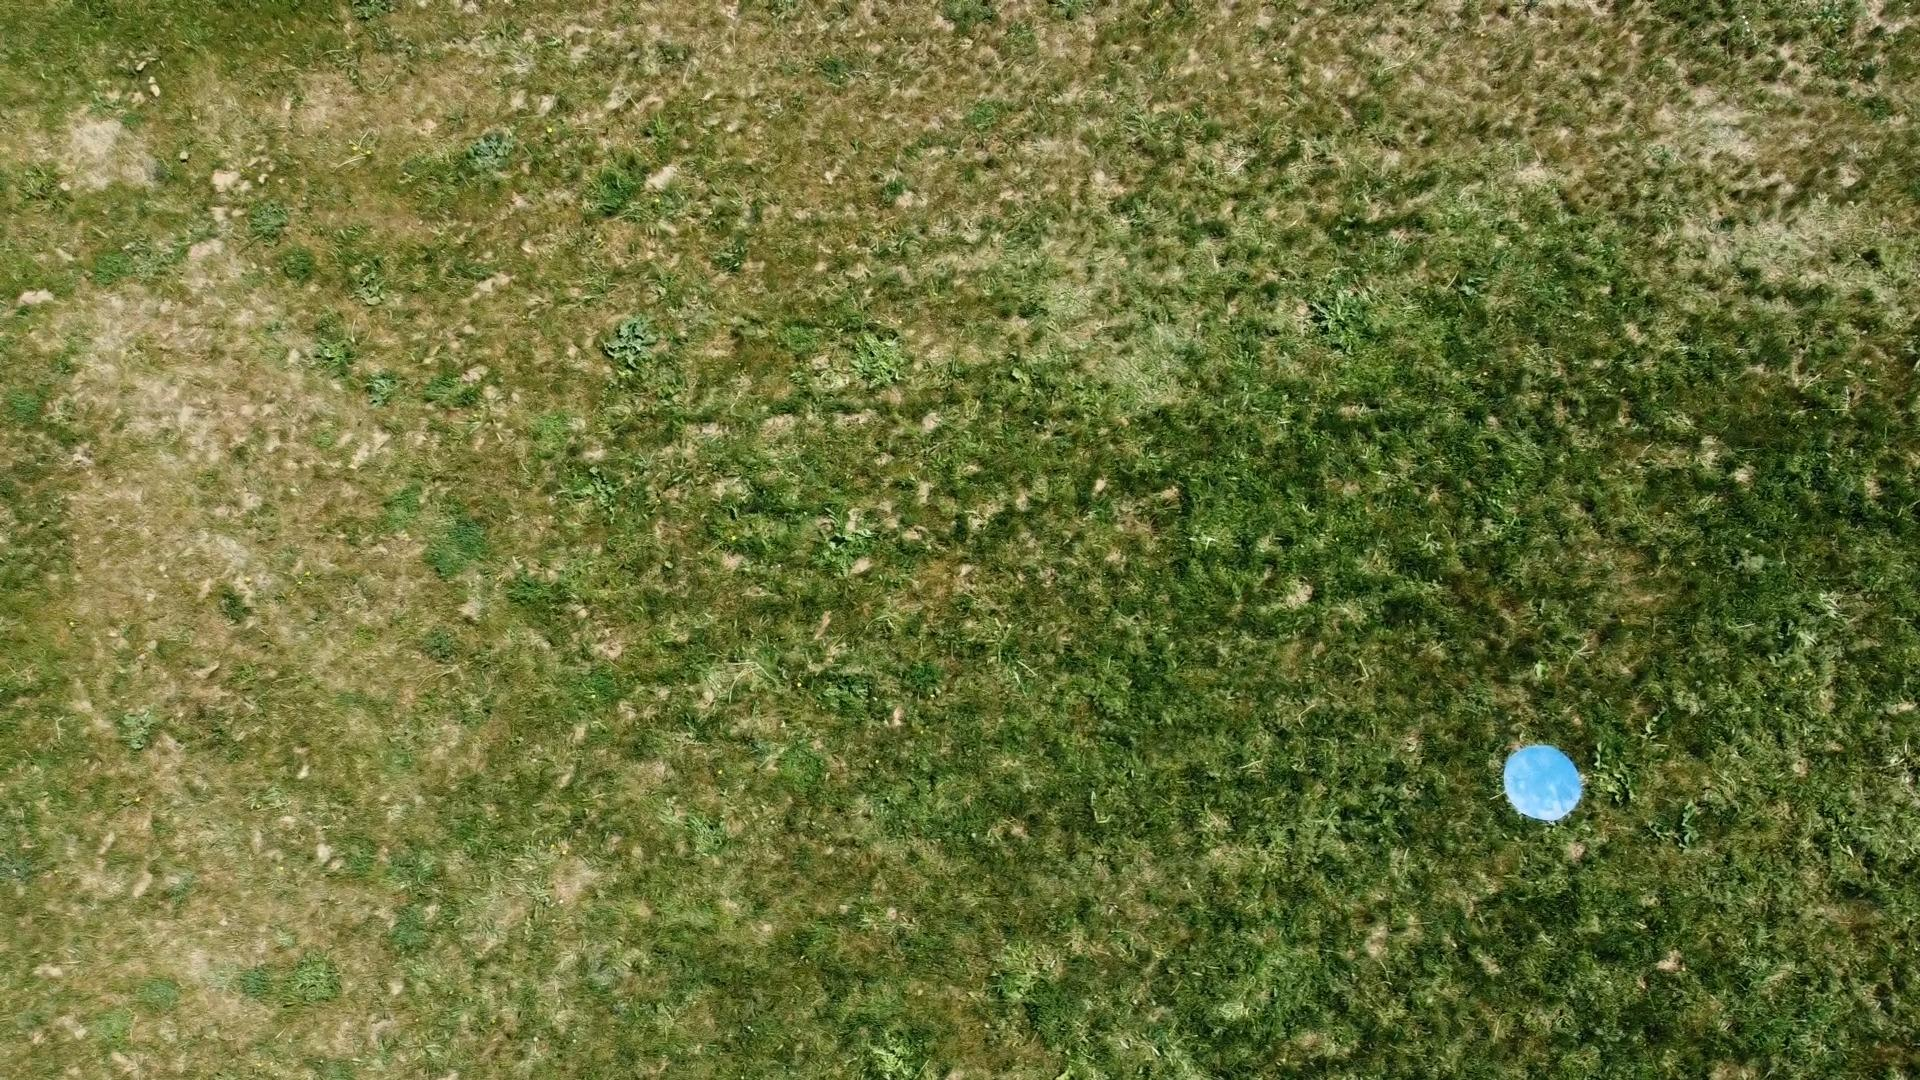Blue: (1499, 741, 1586, 824)
